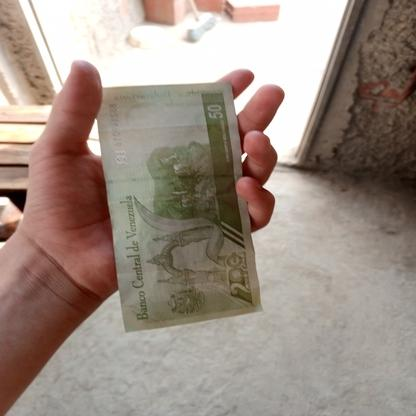fifty-back-vef: (96, 82, 262, 332)
